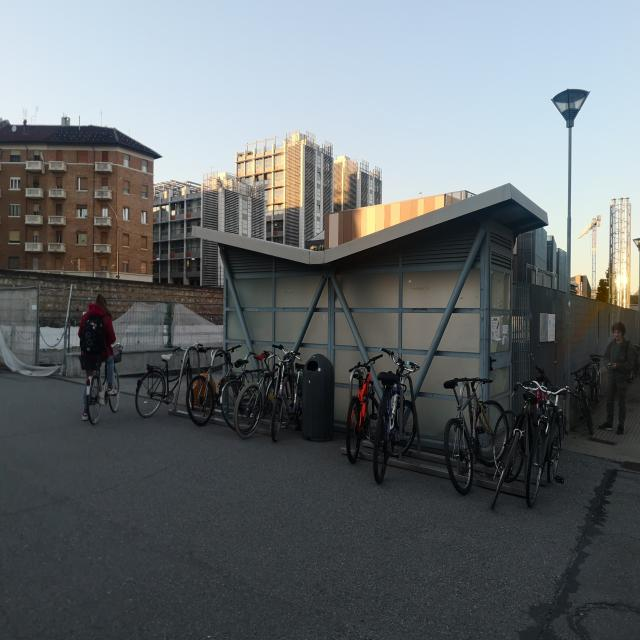Bicycle: (436, 360, 507, 497), (134, 315, 206, 421), (375, 340, 426, 486), (531, 378, 577, 512), (503, 364, 536, 519), (275, 331, 314, 449), (238, 332, 278, 442), (347, 342, 375, 460), (190, 330, 225, 424), (217, 333, 243, 423)
